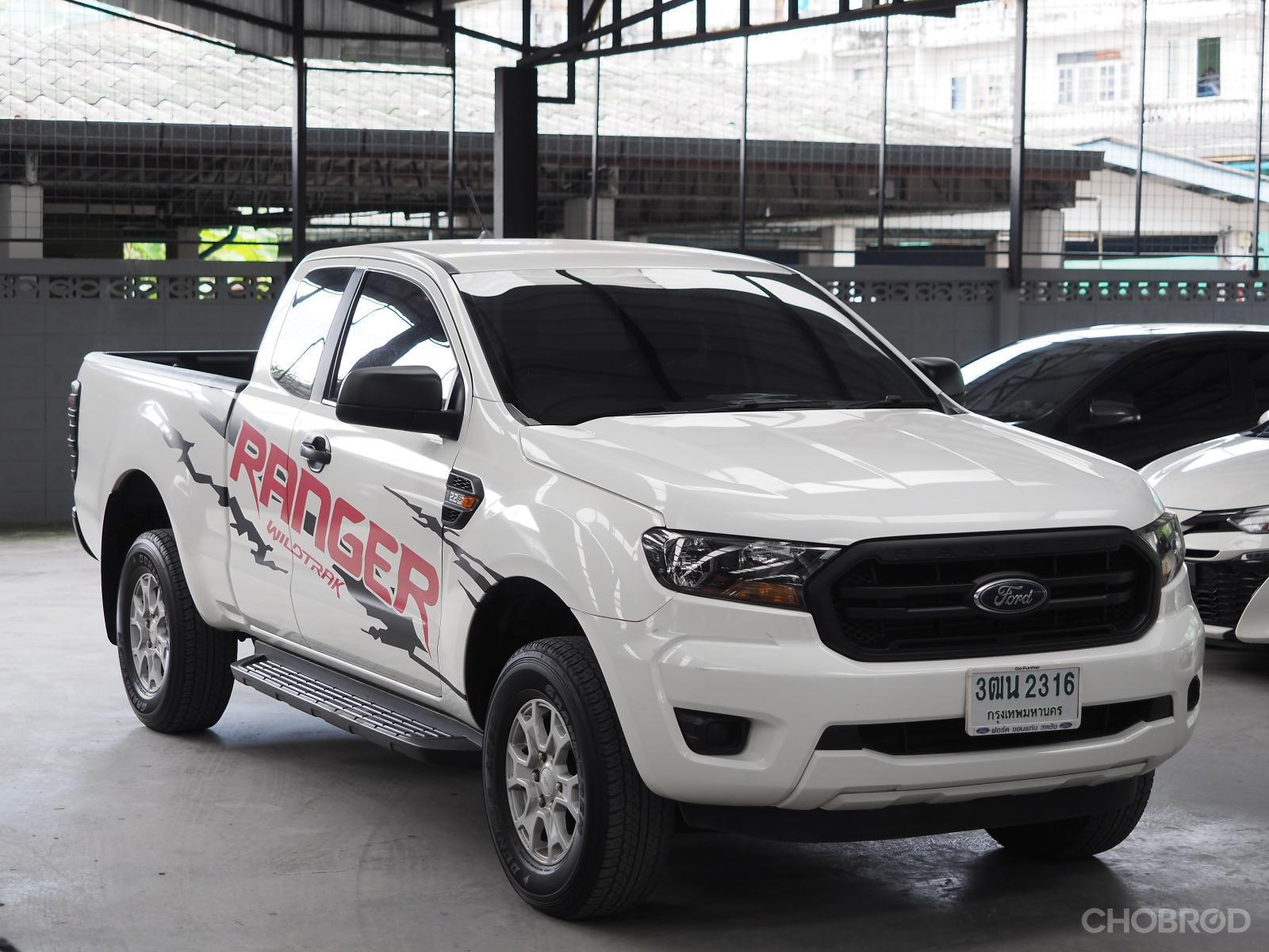license-plate: (961, 661, 1086, 740)
